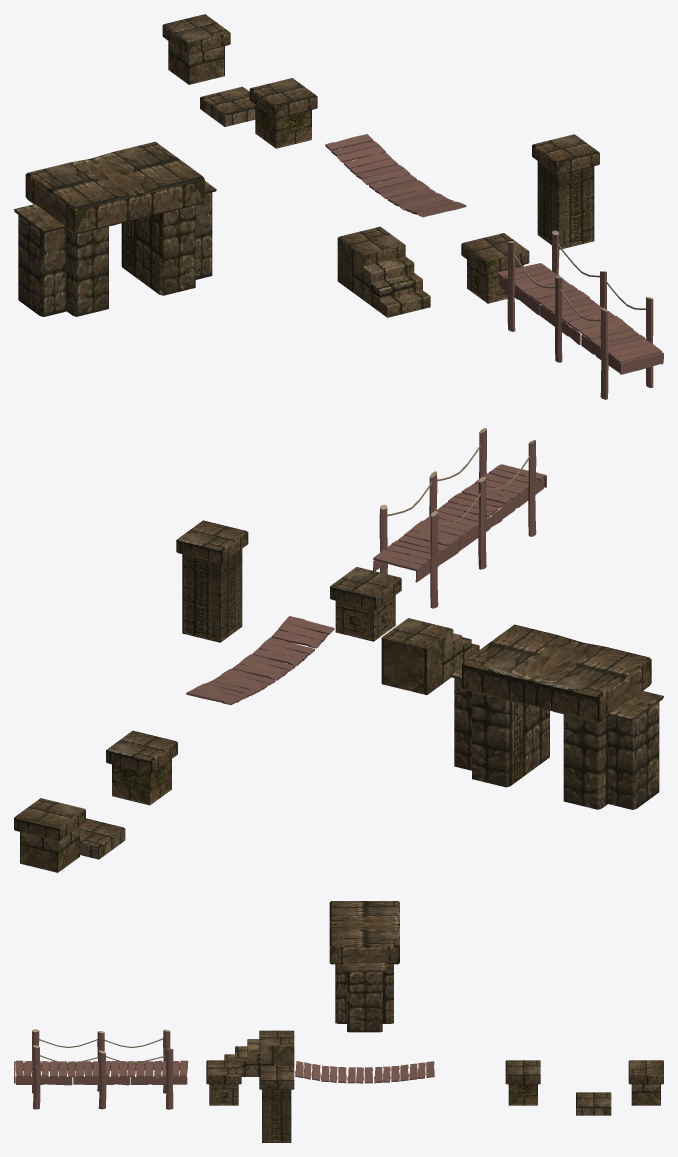
The model's file is IndyAIStyleTiles.glb.
3 renders of one model, top to bottom at view 1: azimuth 30°, elevation 25°; view 2: azimuth 150°, elevation 25°; view 3: azimuth 270°, elevation 25°, orthographic. The views are drawn at different scales.
Parts seen in each view (by area): view 1: gate01-col, bridge2-col, colomn-col, stairs-col, bridge1-col, Cube02-col, Cube04-col, Cube03-col, ground-col; view 2: gate01-col, bridge2-col, colomn-col, stairs-col, bridge1-col, Cube03-col, Cube04-col, Cube02-col, ground-col; view 3: gate01-col, bridge2-col, colomn-col, bridge1-col, stairs-col, Cube02-col, Cube04-col, Cube03-col, ground-col.
Boxes of the visible parts, <box> form: gate01-col: <box>14,141,216,316</box>; bridge2-col: <box>497,230,663,399</box>; colomn-col: <box>532,134,599,249</box>; stairs-col: <box>337,226,430,317</box>; bridge1-col: <box>325,134,466,217</box>; Cube02-col: <box>162,14,230,84</box>; Cube04-col: <box>249,78,317,148</box>; Cube03-col: <box>461,233,529,303</box>; ground-col: <box>200,86,255,126</box>; gate01-col: <box>449,624,663,809</box>; bridge2-col: <box>373,428,546,608</box>; colomn-col: <box>176,520,248,642</box>; stairs-col: <box>381,618,479,694</box>; bridge1-col: <box>186,616,334,705</box>; Cube03-col: <box>330,567,401,641</box>; Cube04-col: <box>106,730,177,805</box>; Cube02-col: <box>14,798,85,872</box>; ground-col: <box>80,818,125,859</box>; gate01-col: <box>329,901,399,1032</box>; bridge2-col: <box>14,1029,188,1109</box>; colomn-col: <box>259,1066,294,1142</box>; bridge1-col: <box>295,1061,434,1083</box>; stairs-col: <box>224,1030,294,1076</box>; Cube02-col: <box>628,1060,663,1105</box>; Cube04-col: <box>505,1060,540,1105</box>; Cube03-col: <box>206,1060,241,1105</box>; ground-col: <box>576,1092,611,1115</box>.
Bounding box in the file's own units: 23 × 5.54 × 36.93.
Materials: 4 (1 with a texture image).
